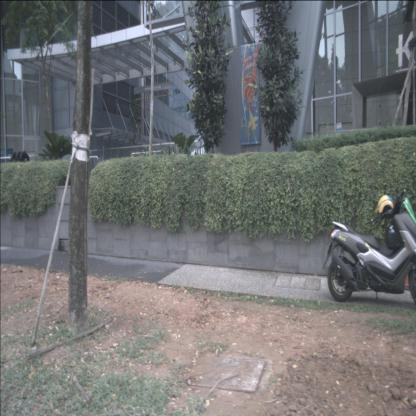vehicle-motorcycle: (322, 193, 416, 302)
